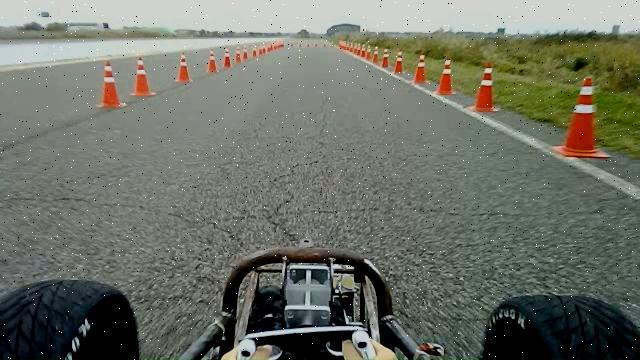red cone: (552, 75, 611, 158), (467, 62, 499, 112), (97, 59, 127, 109), (130, 56, 156, 96), (434, 57, 456, 96), (175, 52, 192, 84), (412, 54, 430, 84), (207, 49, 220, 74), (393, 49, 405, 75), (223, 47, 232, 68), (381, 48, 390, 68), (372, 45, 379, 63), (235, 46, 242, 63), (242, 44, 249, 61)
